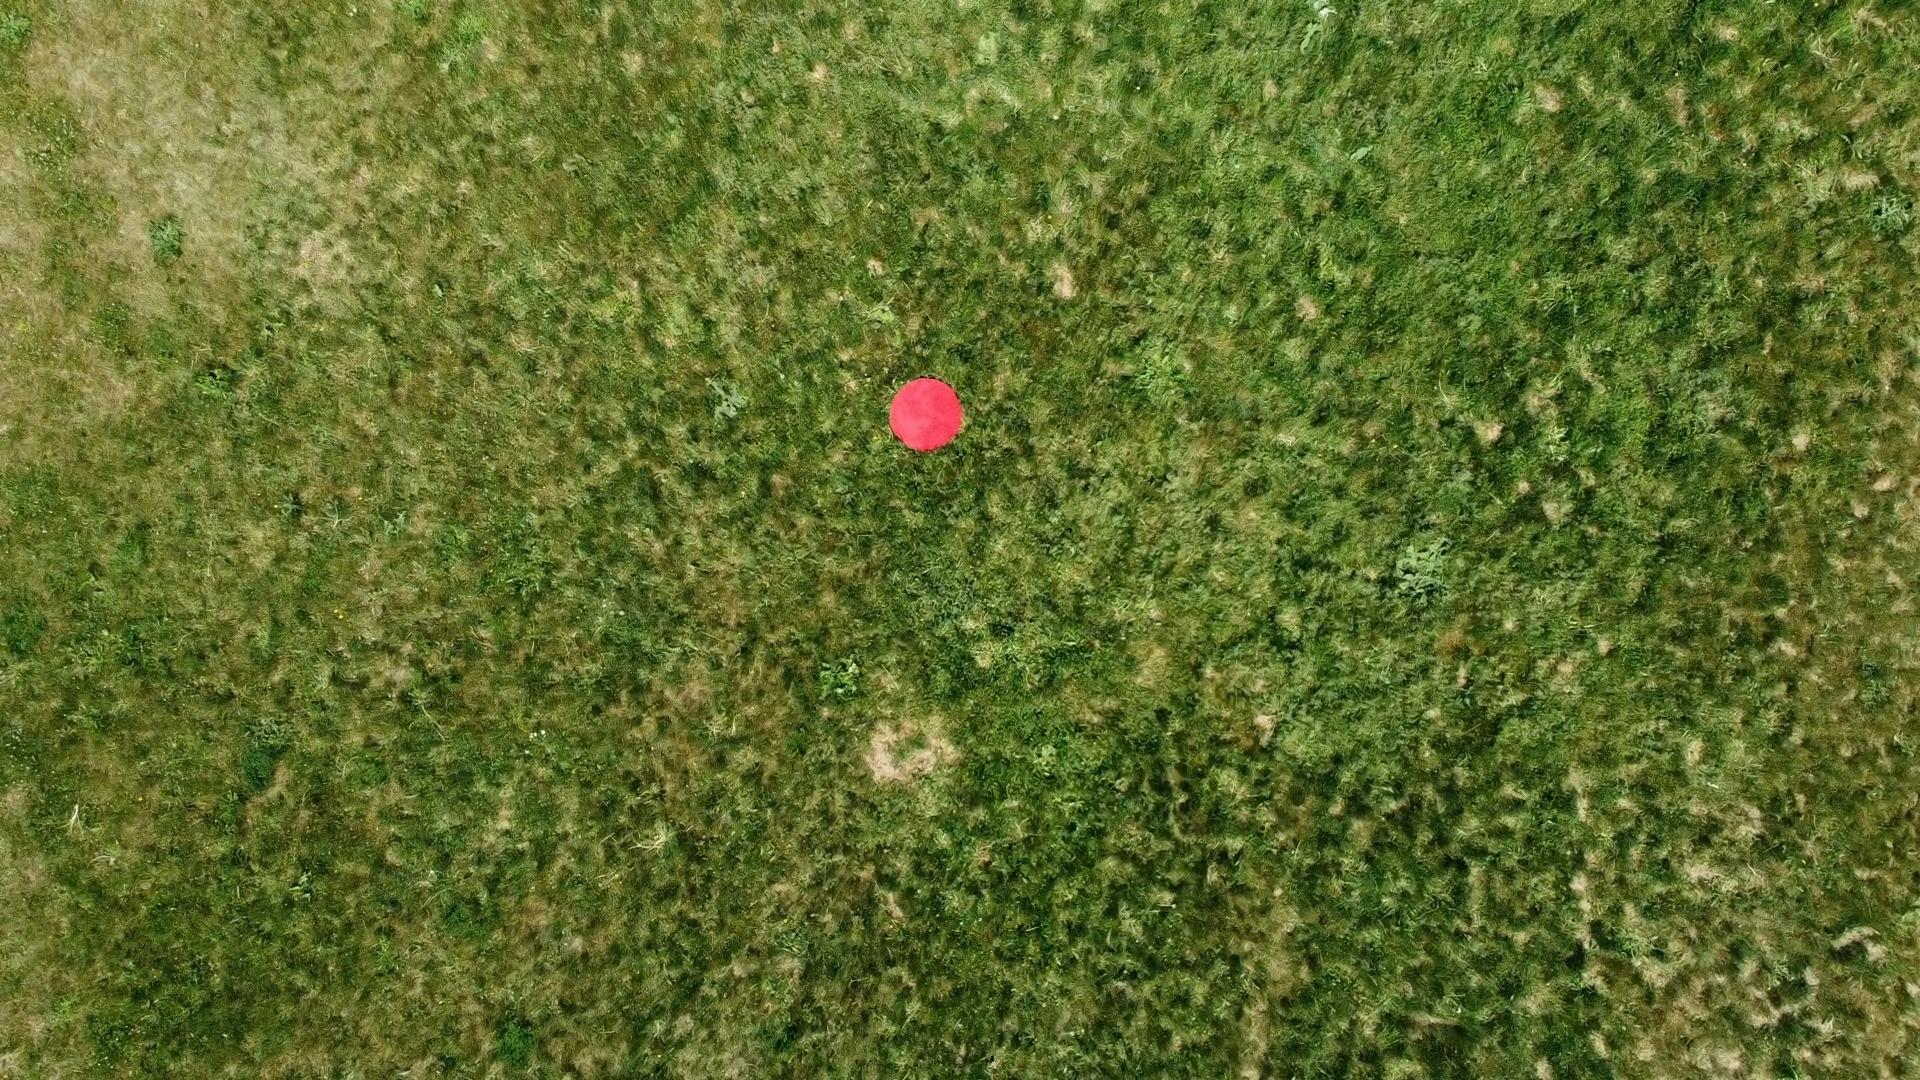Red: (887, 375, 965, 452)
